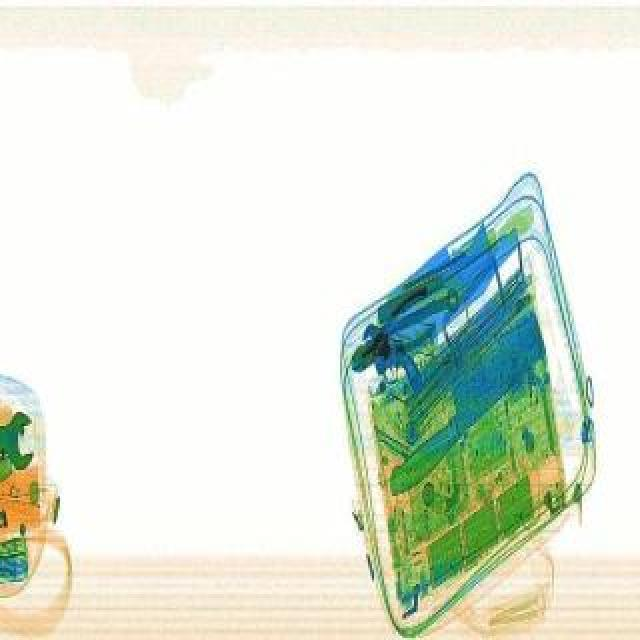gun: (358, 314, 426, 406)
knife: (356, 304, 568, 498)
scissors: (354, 280, 470, 360)
wrench: (330, 284, 452, 374)
